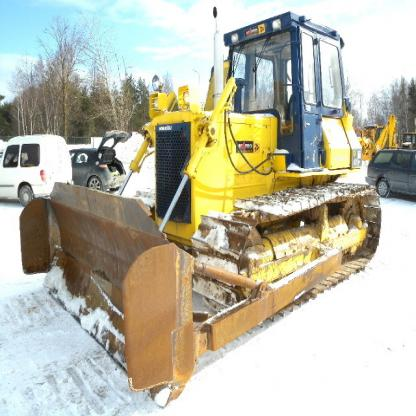bull_dozer/loader/grader: (18, 10, 386, 397)
